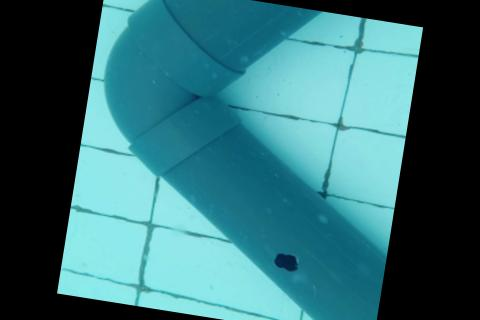kebocoran: (272, 248, 302, 272)
